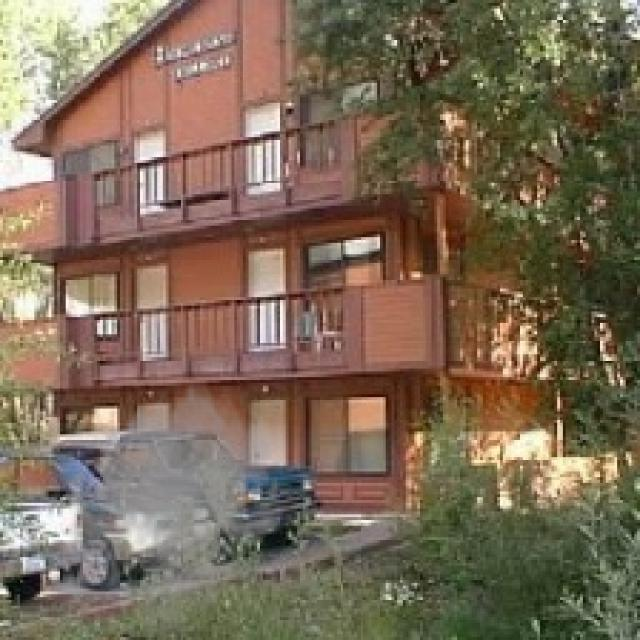smoke: (54, 377, 300, 637)
